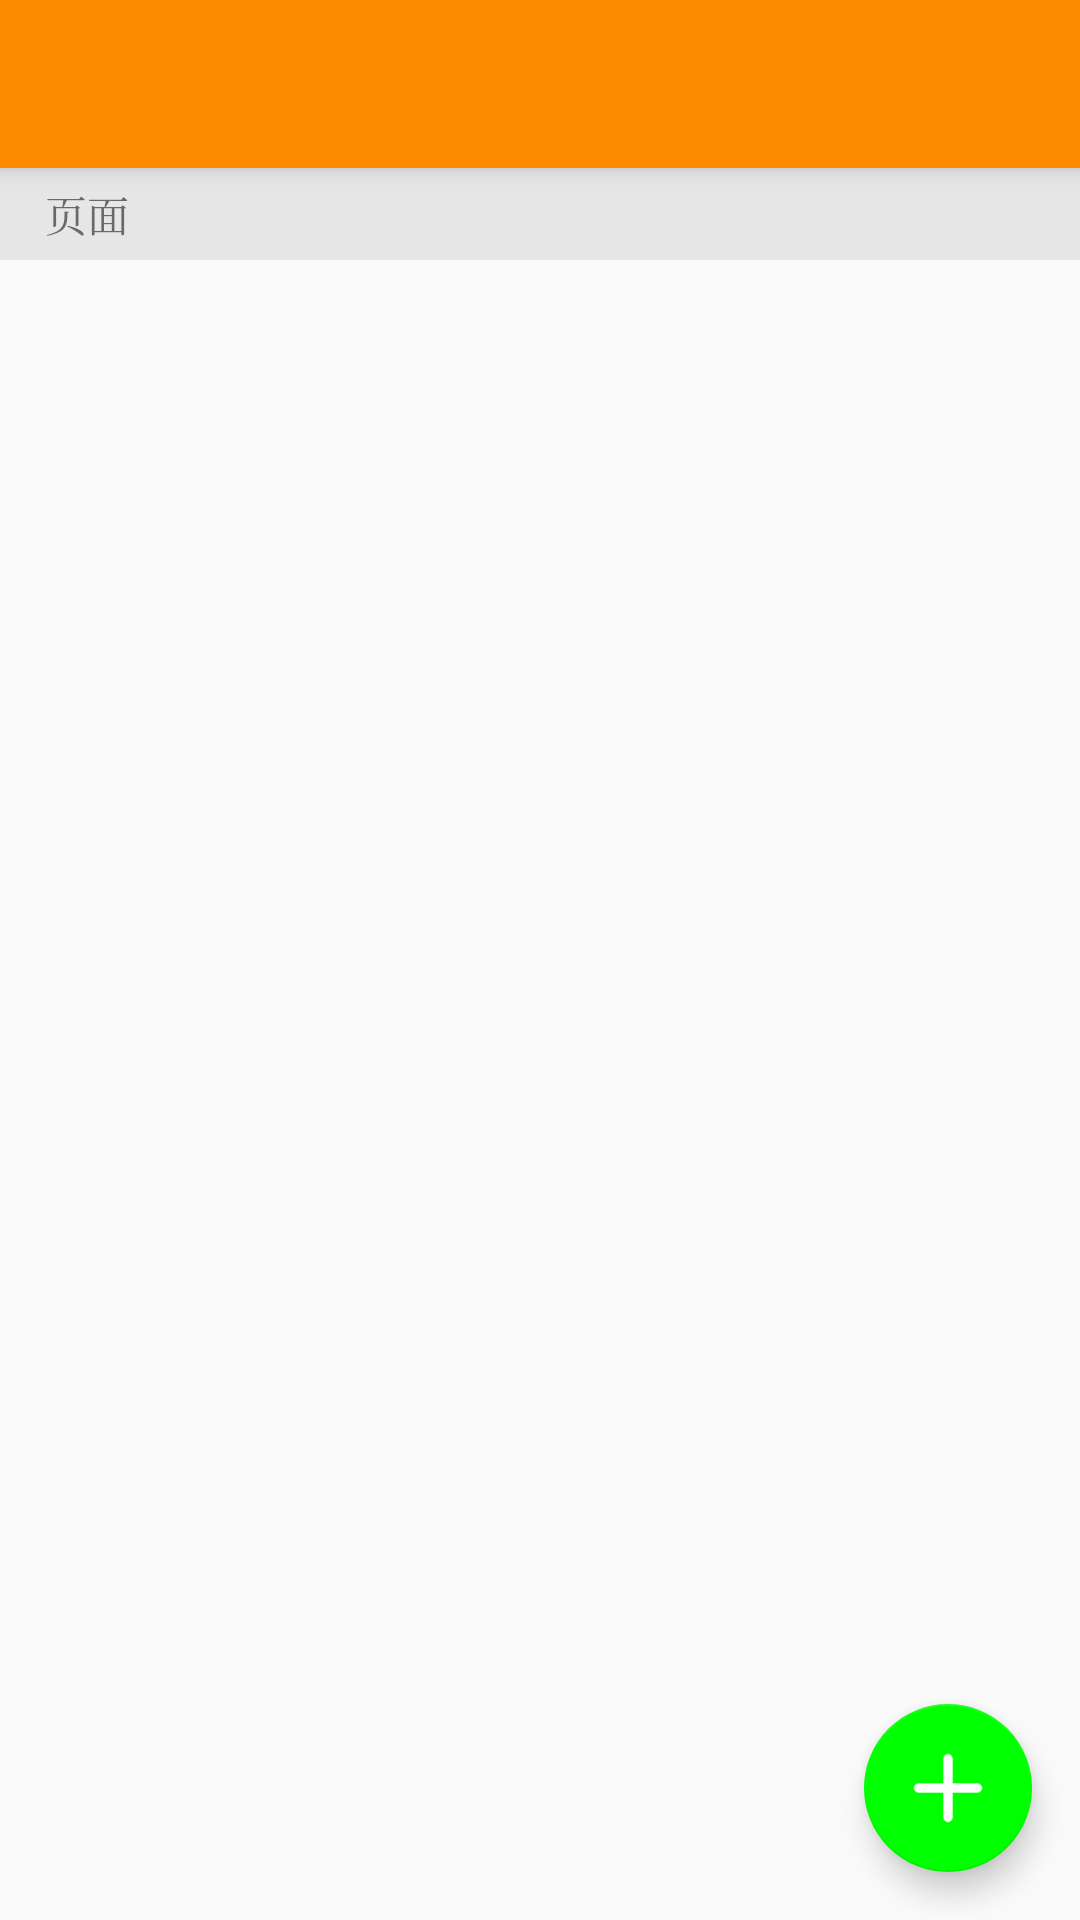

Screen size 1080px x 1920px. Icon name, then its center in pixels as (x=x, y=y):
plus: (x=948, y=1788)
